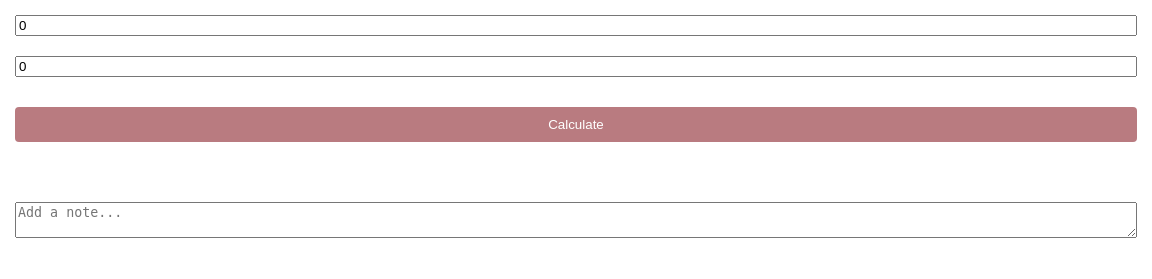
Scenario: PercentageCalculator Component › calculates percentage correctly
The image size is (1152, 279).
In the 1st number field with placeholder "Amount": (576, 26) [15,15,1137,36], type "50"
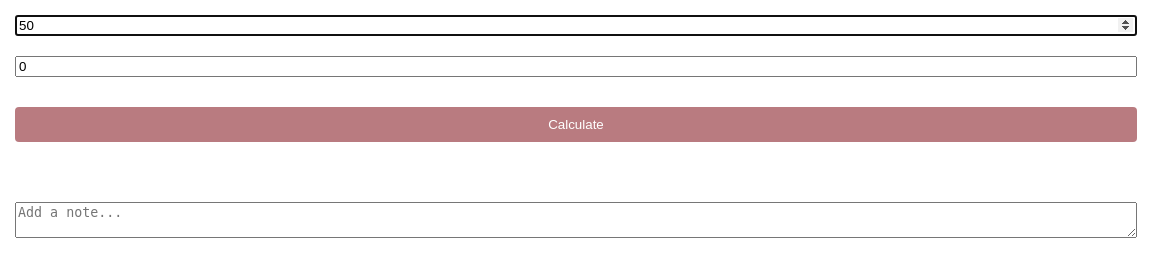
In the 2nd number field with placeholder "Percentage": (576, 66) [15,56,1137,77], type "200"
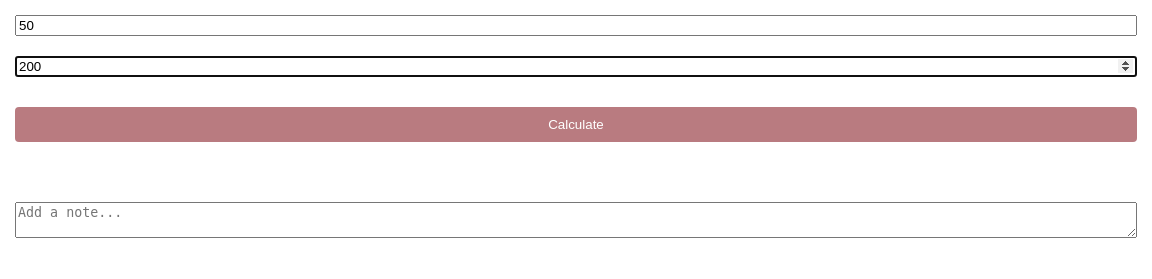
Click the button "Calculate": click(576, 124) [15,107,1137,142]
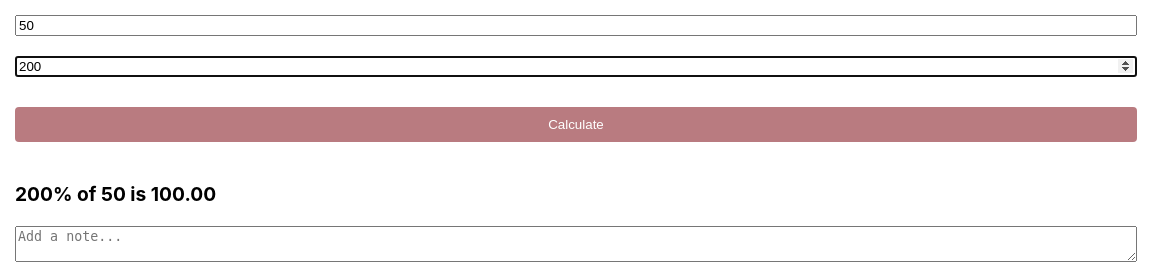
Check: the text "200% of 50 is 100.00" is shown, box [15,182,216,206]
